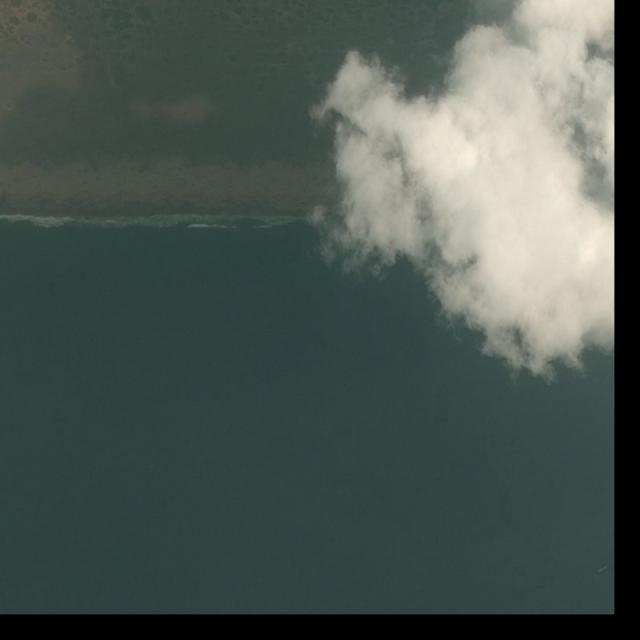ship: (597, 564, 610, 574)
